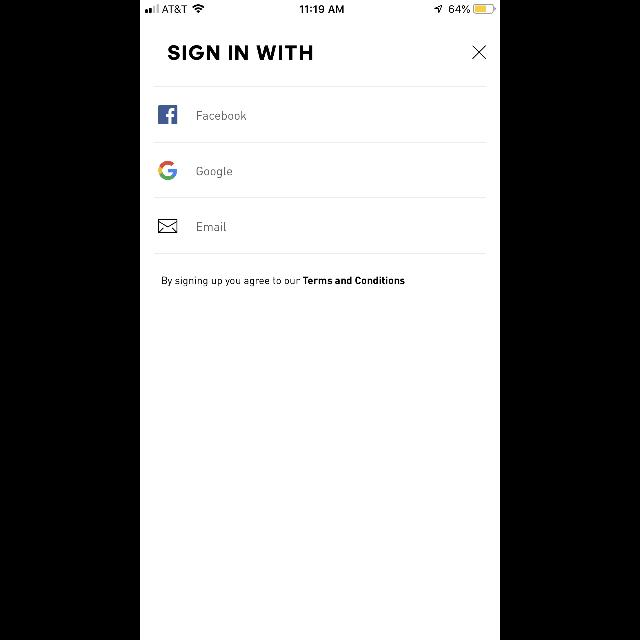icon: (158, 162, 178, 180), (158, 106, 178, 124), (158, 219, 178, 233), (472, 45, 486, 59)
text: (162, 276, 404, 286), (168, 46, 312, 60), (197, 112, 247, 120), (197, 168, 233, 178), (198, 222, 226, 232)
uppertaskbar: (140, 0, 500, 14)
